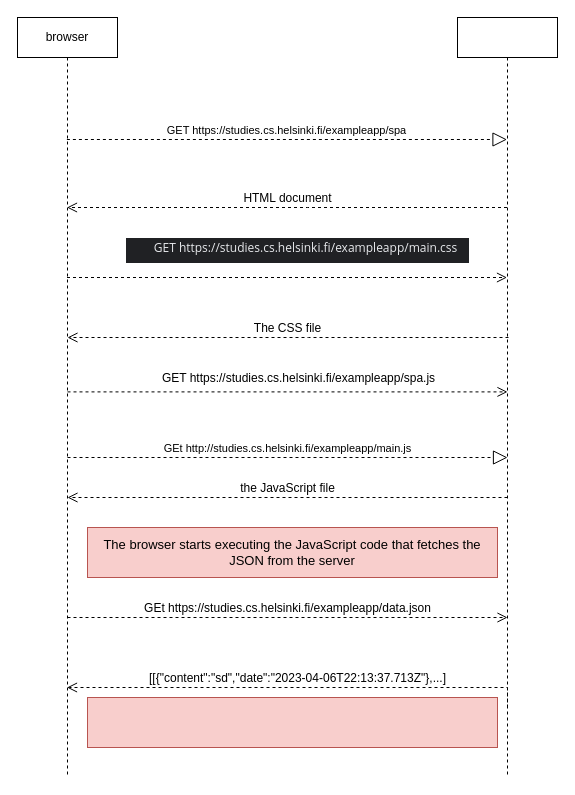
The diagram is 575 pixels wide and 795 high, and some of its shapes have lost their labels. The box of each missing label's shape, as (x1, y1, x2, y2) in pixels:
server: (456, 16, 558, 778)
The browser excutes the callback function to render the notes: (86, 696, 498, 748)
